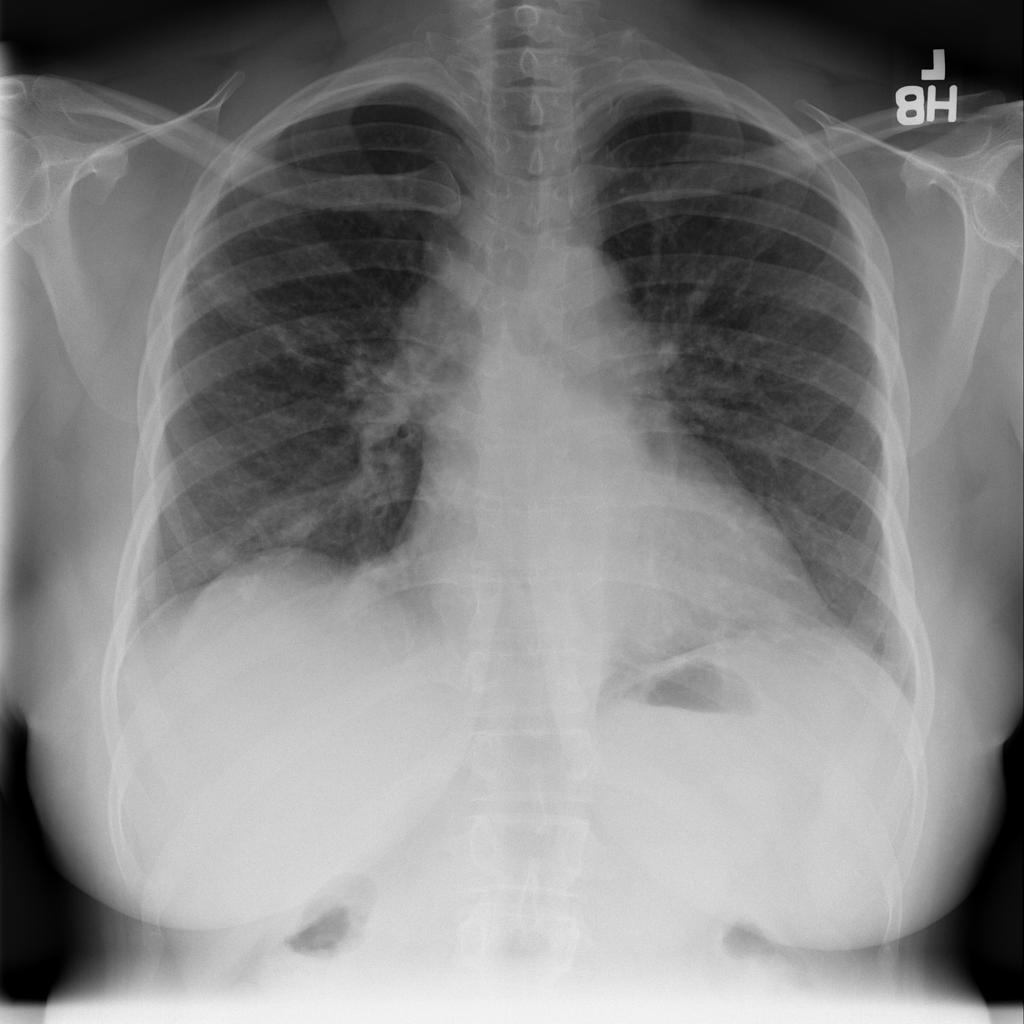nodule: (258, 487, 337, 558), (196, 532, 251, 578)
